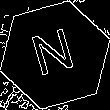N_S: (28, 25, 82, 85)
